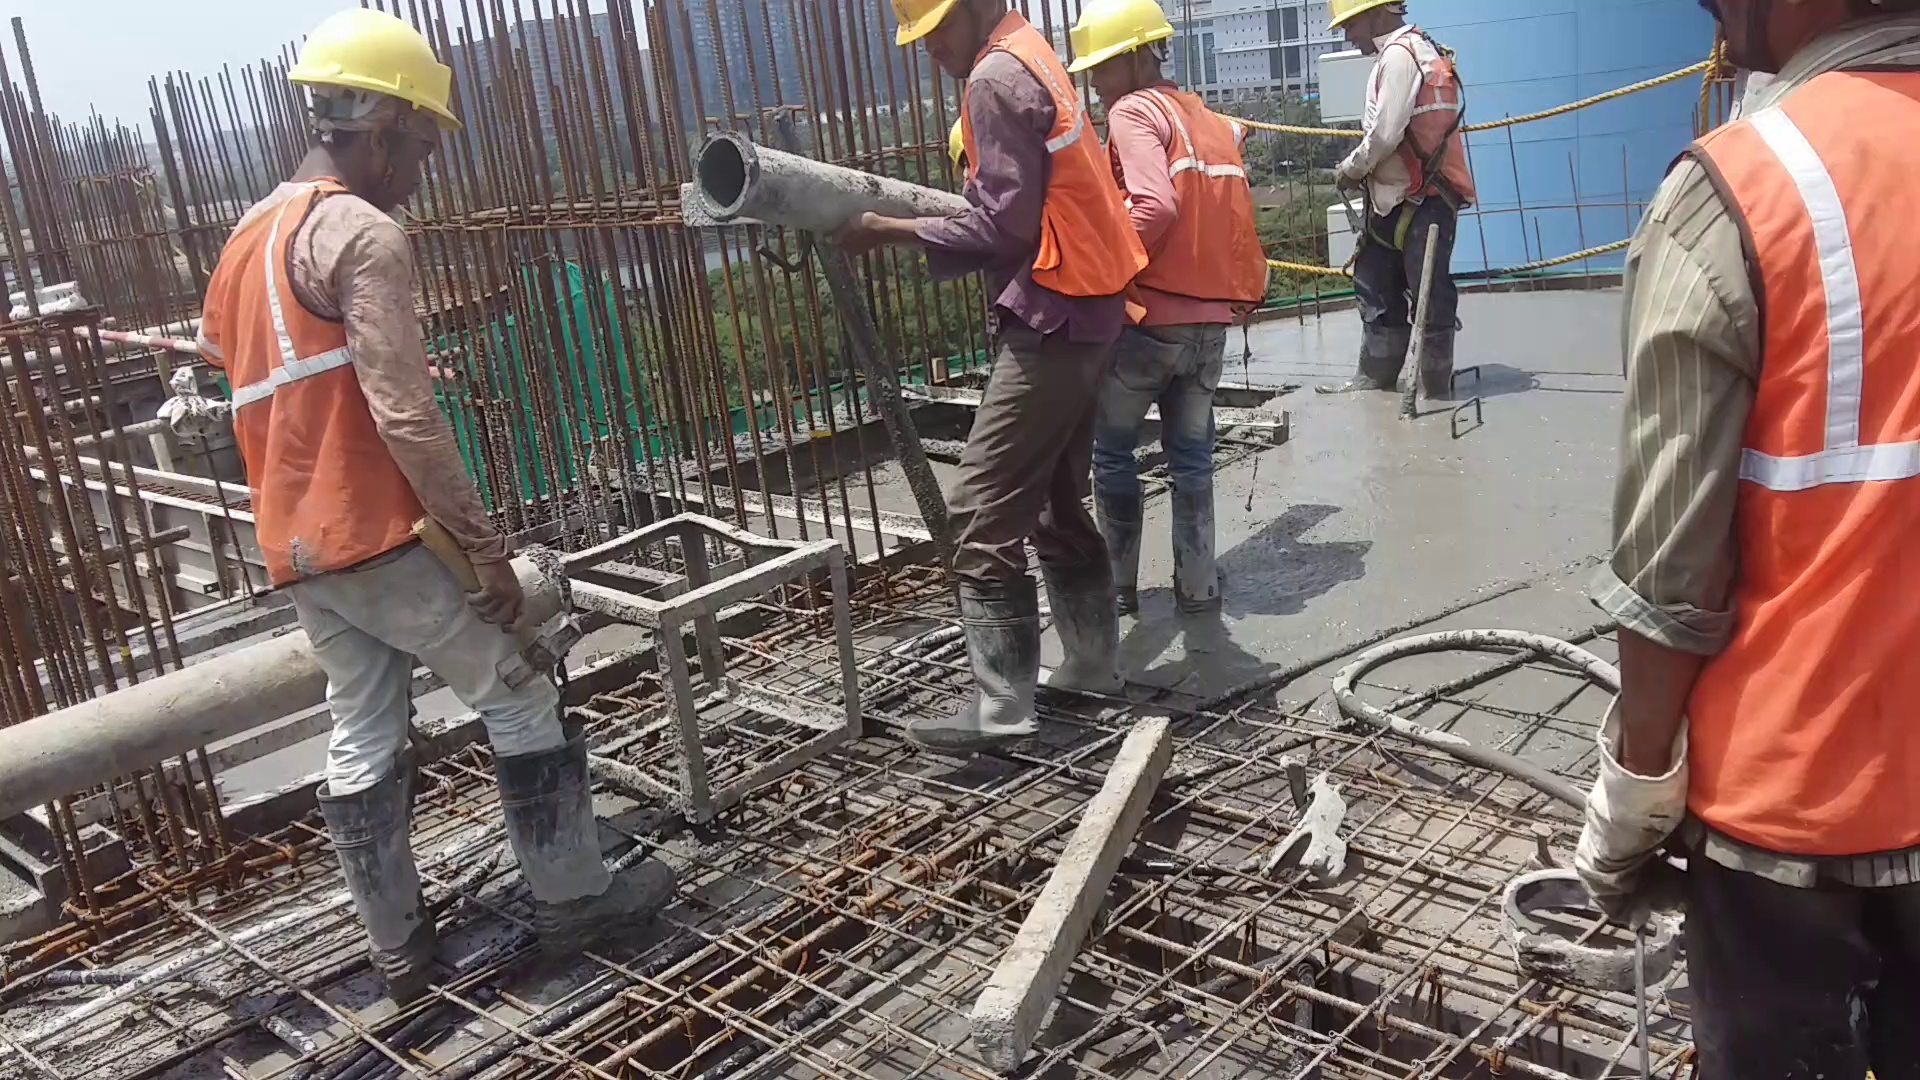SAFE: (232, 5, 456, 597), (895, 3, 1105, 319), (1116, 1, 1236, 316), (1331, 1, 1486, 198)
